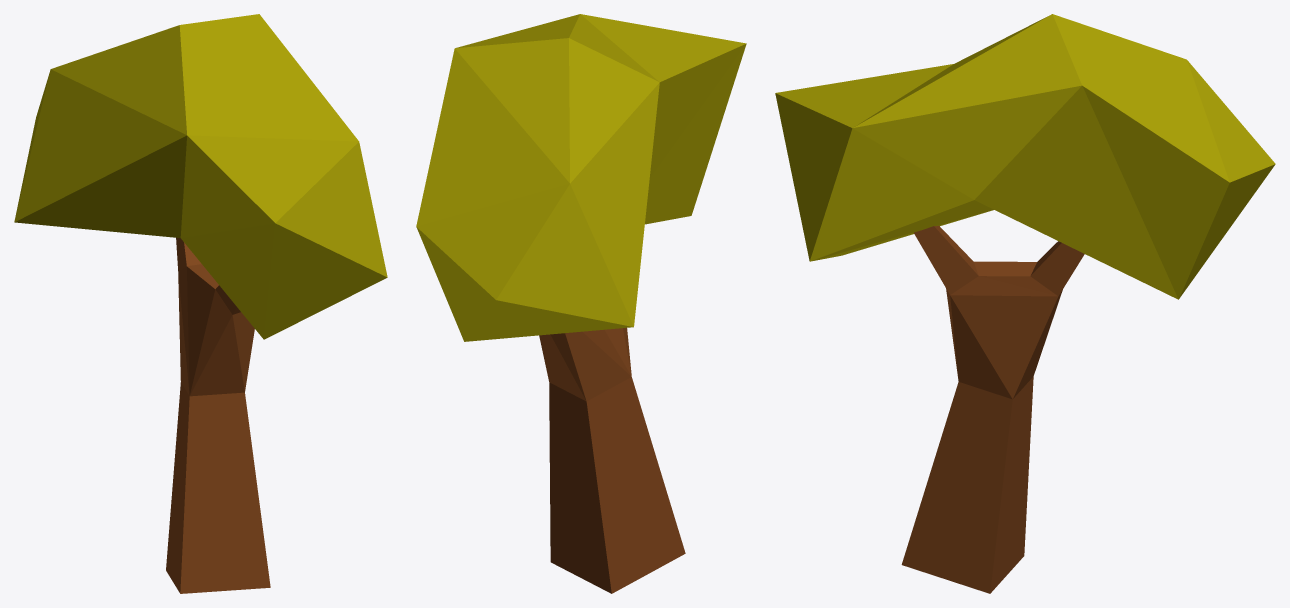
The model's file is Oak1.fbx.
The picture shows the model from 3 angles, left to right: view 1: azimuth 30°, elevation 25°; view 2: azimuth 150°, elevation 25°; view 3: azimuth 270°, elevation 25°; orthographic projection. The views are drawn at different scales.
Parts seen in each view (by area): view 1: Oak1; view 2: Oak1; view 3: Oak1.
Part boxes in pixels (x1=…): Oak1: x1=14, y1=14, x2=387, y2=593; Oak1: x1=416, y1=14, x2=746, y2=593; Oak1: x1=775, y1=14, x2=1275, y2=593.
Size of the model in its own units: 40.22 by 95.18 by 77.68.
